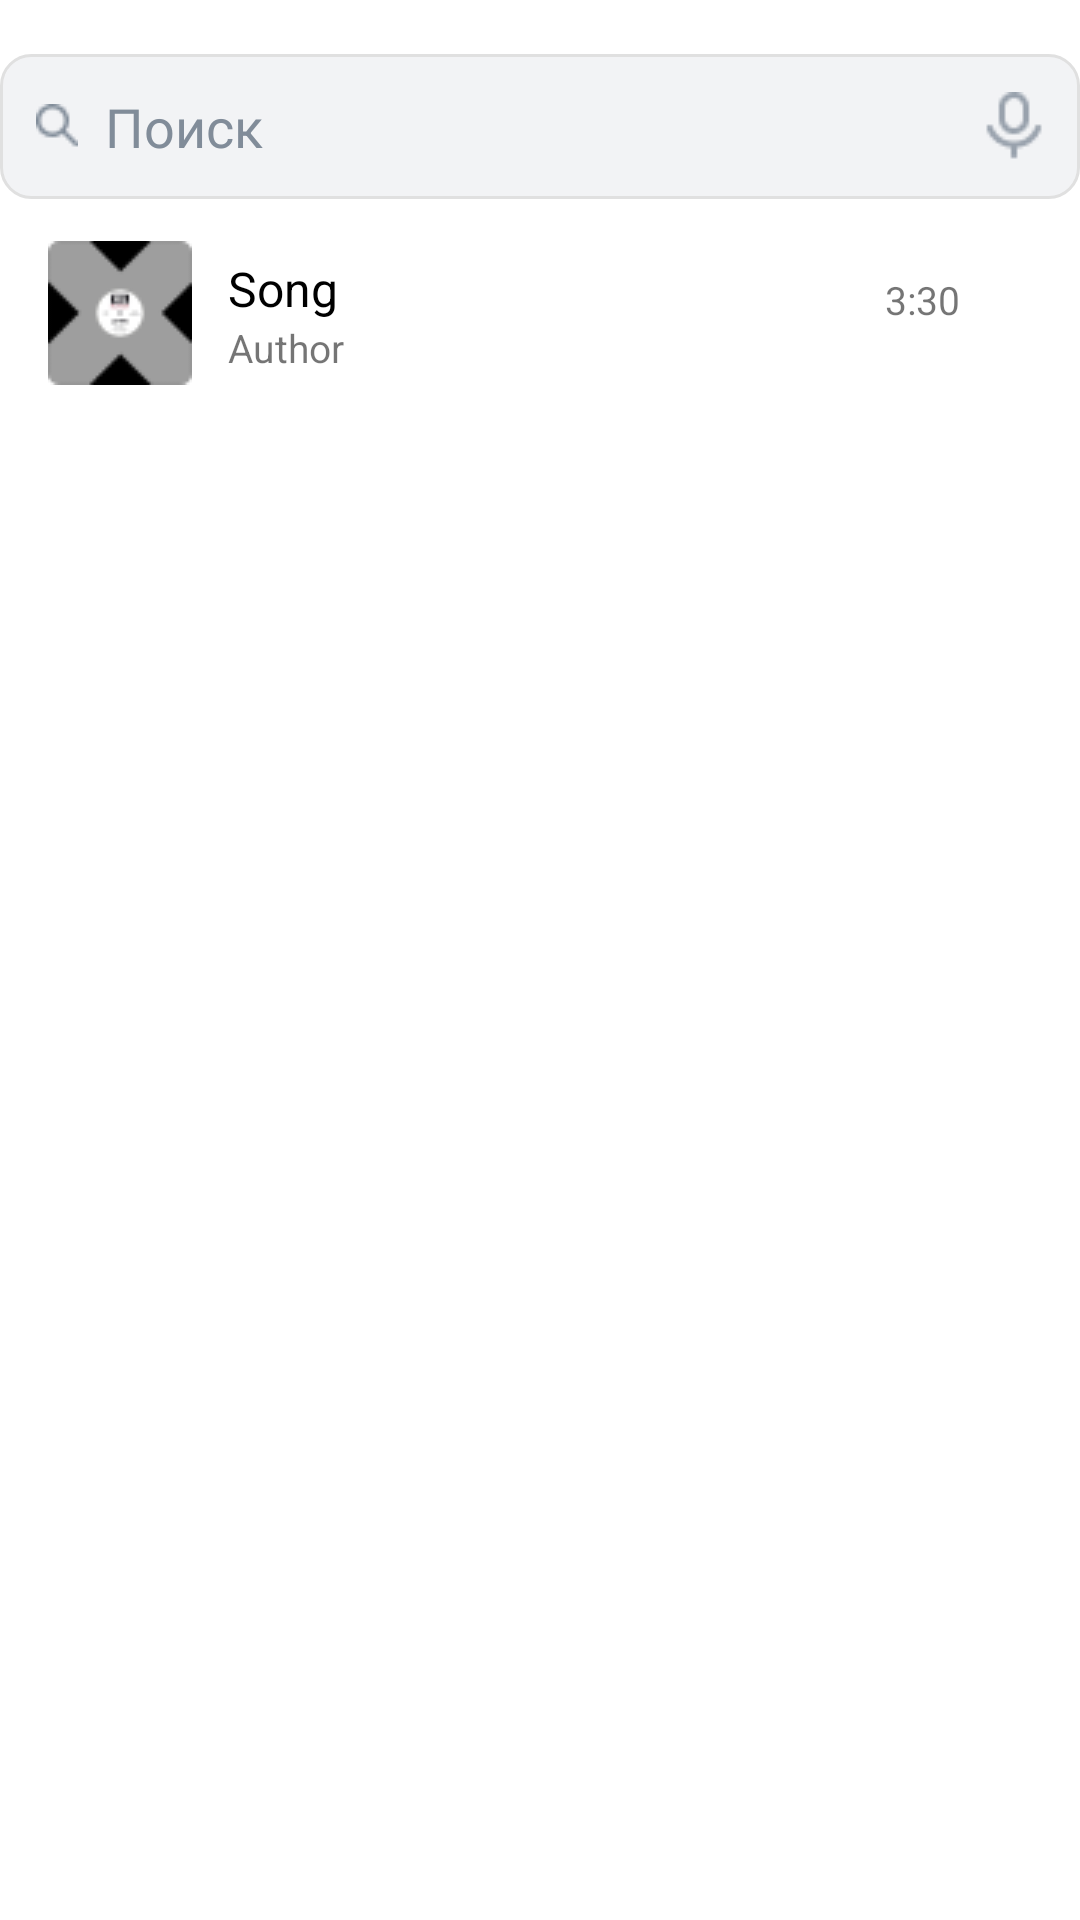

Where to tap for icons on this 1080px x 1920px app screen, as point (x, y):
music: point (120, 313)
